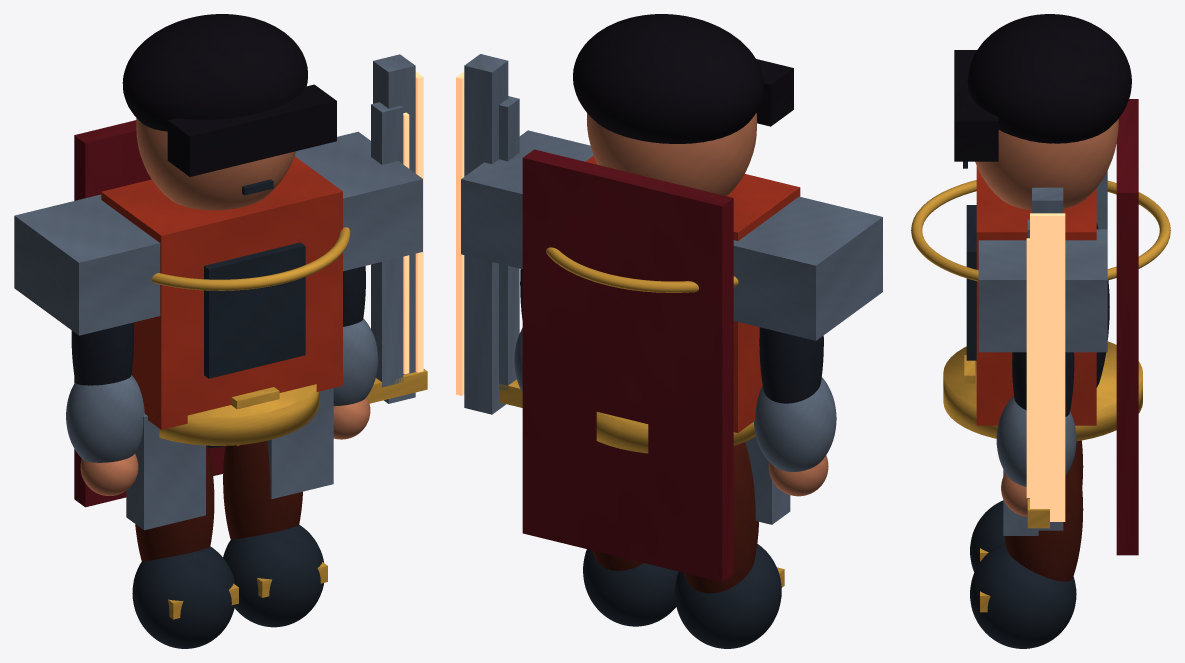
File: Specialization.glb
3 renders of one model, left to right at view 1: azimuth 30°, elevation 25°; view 2: azimuth 150°, elevation 25°; view 3: azimuth 270°, elevation 25°, orthographic. The views are drawn at different scales.
Parts seen in each view (by area): view 1: ChestPlate, Hair, SegmentedPauldron, ChestInset, SegmentedPauldron.001, HairFringe, Boot, Boot.001, Tasset, Head, SwordBlade, Cape (+16 smaller); view 2: Cape, Hair, SegmentedPauldron, Greatsword, SegmentedPauldron.001, Head, Boot, ChestPlate, Gauntlet, Boot.001, Arm, SwordBlade (+7 smaller); view 3: Hair, GreatswordEdge, SegmentedPauldron.001, Cape, ChestPlate, Boot.001, Head, WaistGuard, Leg.001, HairFringe, ShoulderCrest, Gauntlet.001 (+10 smaller).
Boxes of the visible parts, bbox=[...] form: ChestPlate: bbox=[101, 156, 342, 429]; Hair: bbox=[122, 14, 307, 131]; SegmentedPauldron: bbox=[14, 194, 160, 335]; ChestInset: bbox=[204, 242, 305, 378]; SegmentedPauldron.001: bbox=[295, 131, 422, 271]; HairFringe: bbox=[167, 84, 336, 176]; Boot: bbox=[132, 546, 235, 648]; Boot.001: bbox=[223, 525, 323, 627]; Tasset: bbox=[126, 414, 205, 530]; Head: bbox=[136, 118, 295, 210]; SwordBlade: bbox=[371, 102, 403, 387]; Cape: bbox=[74, 120, 225, 507]; Cape: bbox=[522, 149, 733, 581]; Hair: bbox=[573, 14, 763, 143]; SegmentedPauldron: bbox=[733, 196, 882, 340]; Greatsword: bbox=[464, 54, 508, 414]; SegmentedPauldron.001: bbox=[461, 130, 593, 269]; Head: bbox=[587, 113, 757, 196]; Boot: bbox=[674, 544, 781, 648]; ChestPlate: bbox=[585, 156, 800, 432]; Gauntlet: bbox=[754, 377, 836, 471]; Boot.001: bbox=[583, 549, 678, 626]; Arm: bbox=[759, 327, 823, 403]; SwordBlade: bbox=[499, 96, 519, 390]; Hair: bbox=[967, 14, 1131, 143]; GreatswordEdge: bbox=[1030, 213, 1065, 521]; SegmentedPauldron.001: bbox=[978, 229, 1107, 352]; Cape: bbox=[1116, 99, 1138, 555]; ChestPlate: bbox=[976, 166, 1096, 425]; Boot.001: bbox=[970, 542, 1076, 648]; Head: bbox=[975, 119, 1118, 210]; WaistGuard: bbox=[943, 341, 1142, 441]; Leg.001: bbox=[1004, 451, 1083, 581]; HairFringe: bbox=[954, 50, 998, 161]; ShoulderCrest: bbox=[911, 180, 1170, 281]; Gauntlet.001: bbox=[996, 396, 1076, 486].
Bounding box in the file's own units: 1.93 × 2.96 × 1.17.
Materials: 12 (9 with a texture image).
